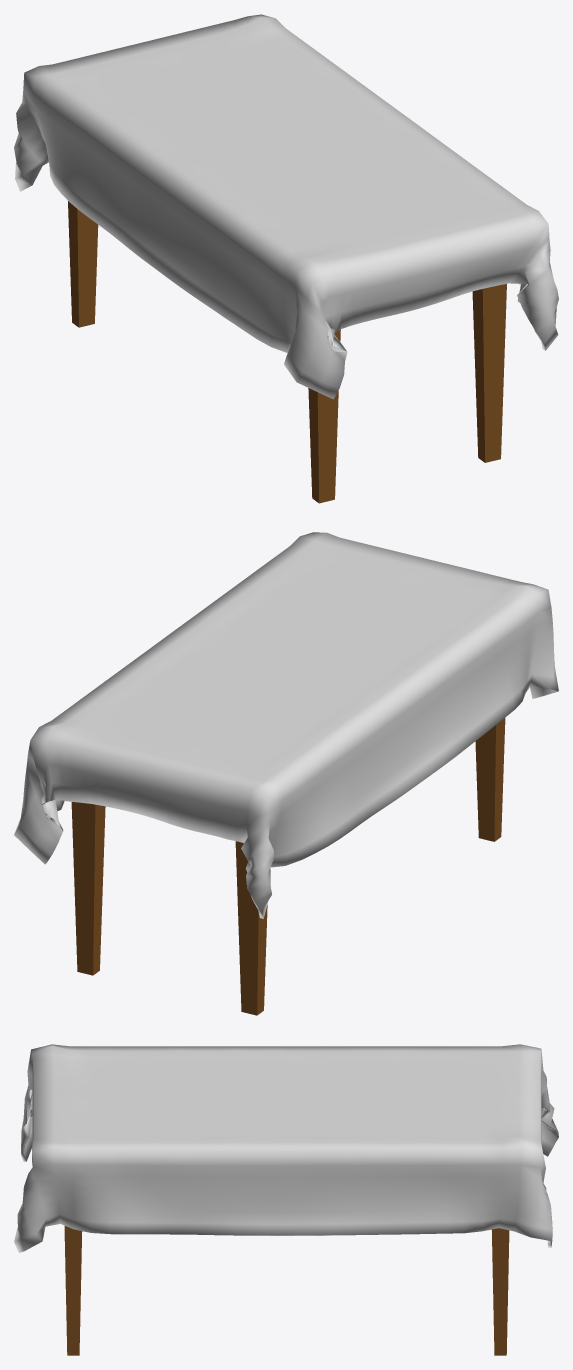
File: table.fbx
The picture shows the model from 3 angles, top to bottom: view 1: azimuth 30°, elevation 25°; view 2: azimuth 150°, elevation 25°; view 3: azimuth 270°, elevation 25°; orthographic projection. The views are drawn at different scales.
Visible parts, largest first — view 1: tablecloth, table; view 2: tablecloth, table; view 3: tablecloth, table.
Boxes of the visible parts, box(x1,y1,x2,y2) form: tablecloth: box(14, 14, 558, 399); table: box(68, 201, 506, 503); tablecloth: box(14, 532, 558, 918); table: box(71, 718, 505, 1015); tablecloth: box(14, 1044, 558, 1252); table: box(64, 1226, 509, 1355).
Size of the model in its own units: 8.44 by 7.64 by 16.87.
2 materials, 1 textured.
